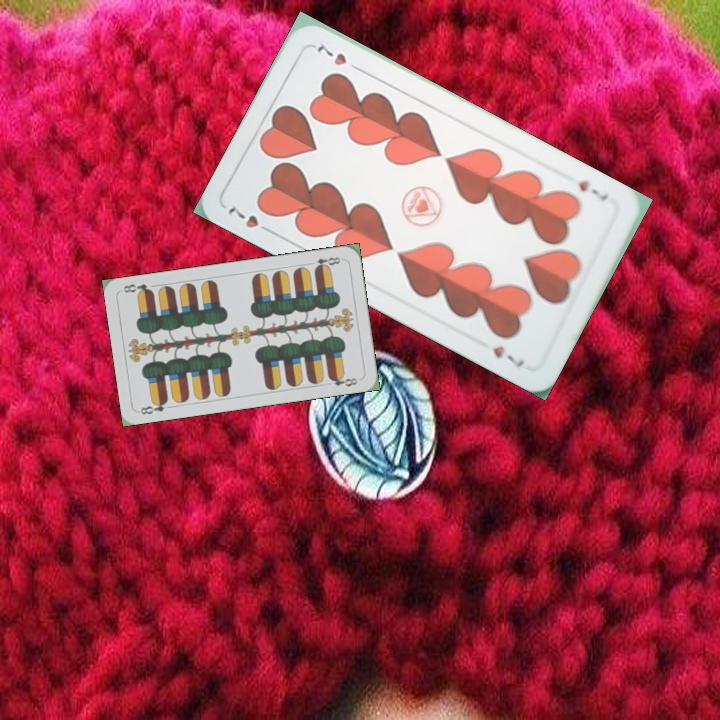E8: (136, 396, 171, 417), (310, 253, 345, 272)
H7: (224, 203, 277, 237), (574, 176, 611, 204)
